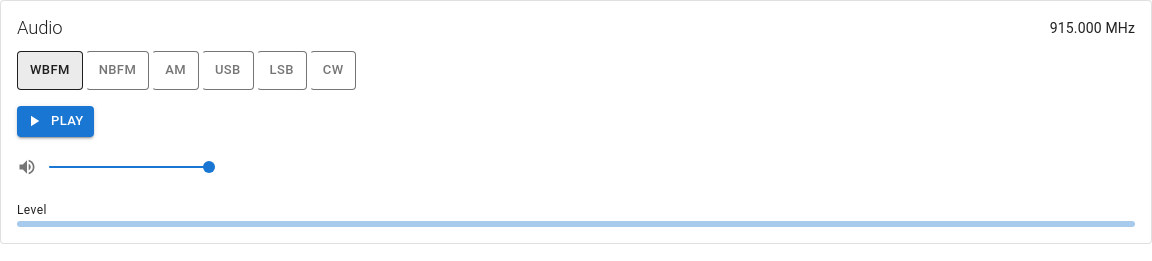
Scenario: AudioPlayer with a tuned frequency › Play starts the stream player at the selected mode (default WBFM)
Click the button "Play" at (55, 121), box top-left (17, 106), bottom-right (94, 137)
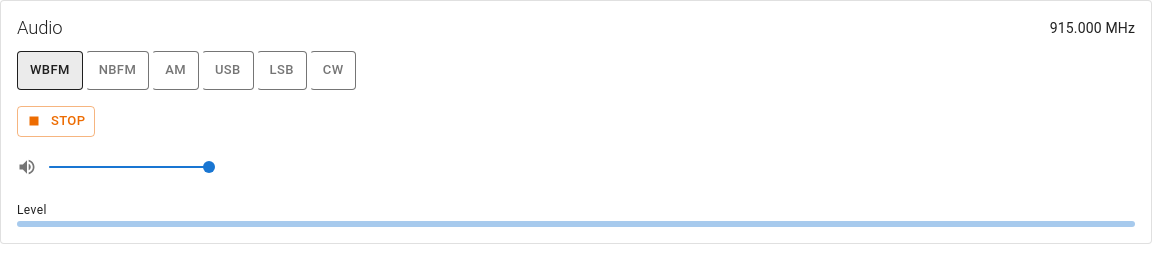
Expected: the button "Stop" is shown, top-left (17, 106), bottom-right (95, 137)
